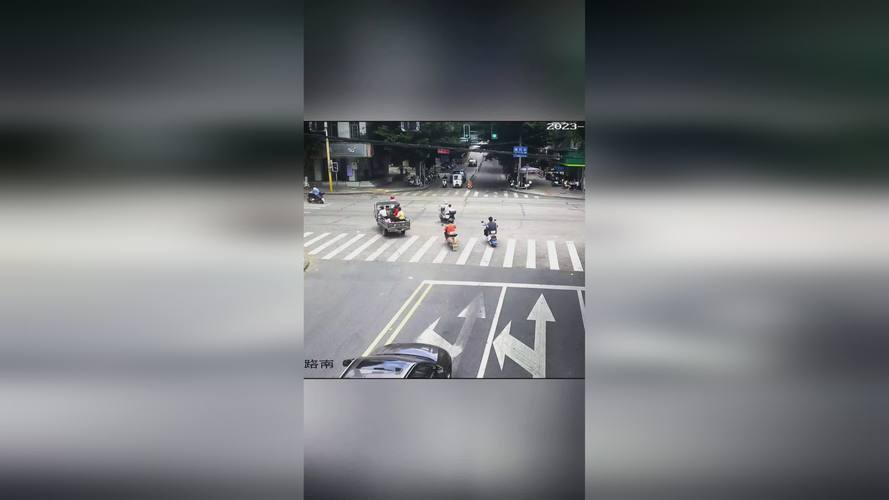driver: (375, 190, 405, 209)
overloading: (357, 187, 417, 243)
passenger: (391, 202, 405, 226), (375, 203, 386, 221)
